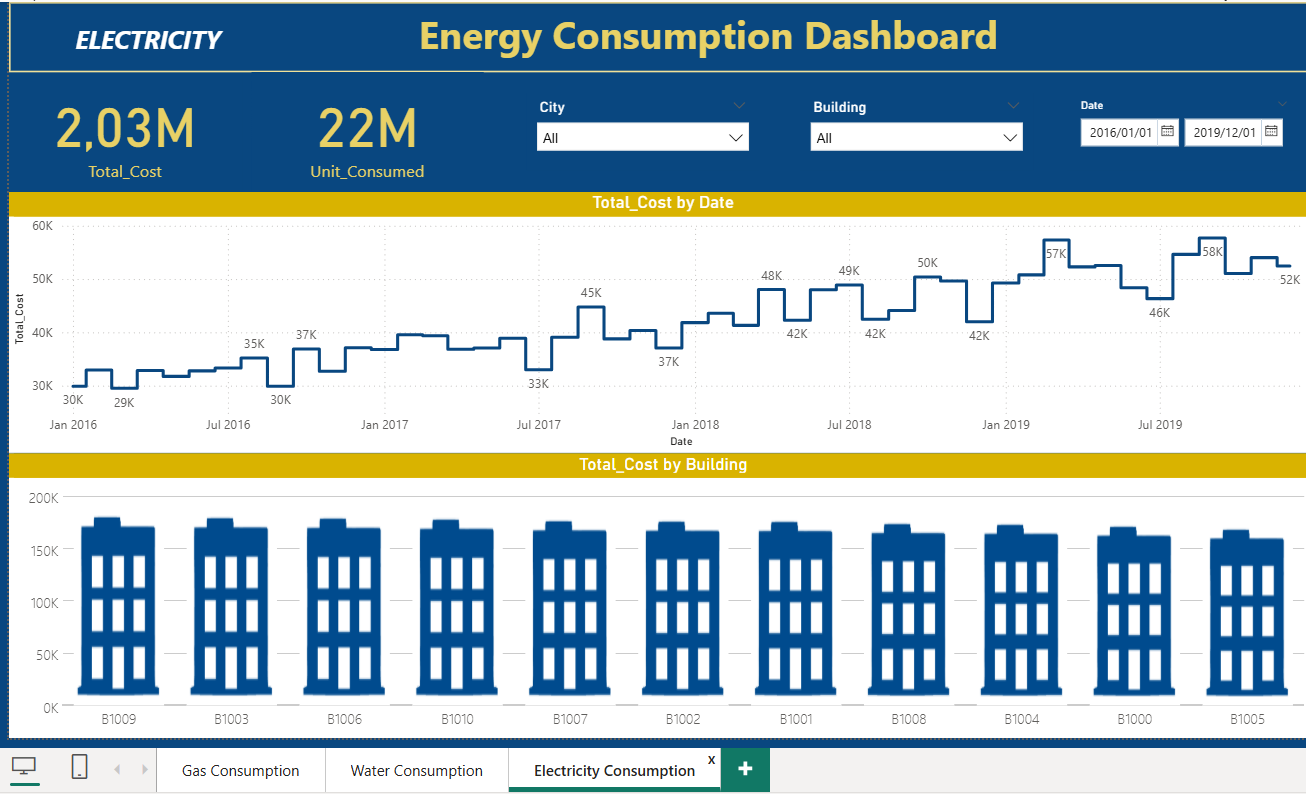

The page's visual inventory and layout, read from the dashboard file:
{"tool":"powerbi","page":{"name":"Electricity Consumption","canvas":[1280,720],"ordinal":2},"visuals":[{"type":"card","fields":{"Values":["Energy Consumptions.Electricity_Total_Cost"]},"box":[0,68.6,227.8,116.6],"z":0},{"type":"textbox","box":[0,0,1280.3,68.6],"z":1},{"type":"card","fields":{"Values":["Energy Consumptions.Electricity_Unit_Consumed"]},"box":[236.7,68.6,227.3,117],"z":2},{"type":"slicer","fields":{"Values":["Building Master.City"]},"box":[505.7,88.8,227.3,75.3],"z":3},{"type":"slicer","fields":{"Values":["Energy Consumptions.Building"]},"box":[773.9,89.2,227.8,75.5],"z":4},{"type":"slicer","fields":{"Values":["Energy Consumptions.Date"]},"box":[1036,89.2,227.8,75.5],"z":5},{"type":"lineChart","title":"Total_Cost by Date","fields":{"Y":["Energy Consumptions.Electricity_Total_Cost"],"Category":["Energy Consumptions.Date.Variation.Date Hierarchy.Year","Energy Consumptions.Date.Variation.Date Hierarchy.Quarter","Energy Consumptions.Date.Variation.Date Hierarchy.Month","Energy Consumptions.Date.Variation.Date Hierarchy.Day"]},"box":[0,185.6,1280.3,255.5],"z":6},{"type":"PBI_CV_73744D90_4DC9_4F18_8BA5_EE8FA5C98035","title":"Total_Cost by  Building","fields":{"Values":["Energy Consumptions.Electricity_Total_Cost"],"Category":["Building Master.Building"]},"box":[0,441.1,1280.3,278.4],"z":7}]}

Visuals, with their boxes on the page's 1280x720 design canvas (x1, y1, x2, y2). These are canvas units, not pixel positions in the 1306x794 screenshot, which may show the page scaled, cropped or inside an application window:
card - Energy Consumptions.Electricity_Total_Cost: 0, 69, 228, 185
textbox: 0, 0, 1280, 69
card - Energy Consumptions.Electricity_Unit_Consumed: 237, 69, 464, 186
slicer - Building Master.City: 506, 89, 733, 164
slicer - Energy Consumptions.Building: 774, 89, 1002, 165
slicer - Energy Consumptions.Date: 1036, 89, 1264, 165
"Total_Cost by Date" lineChart: 0, 186, 1280, 441
"Total_Cost by  Building" PBI_CV_73744D90_4DC9_4F18_8BA5_EE8FA5C98035: 0, 441, 1280, 720
